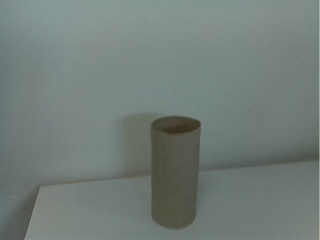rollo papel: (149, 114, 203, 232)
